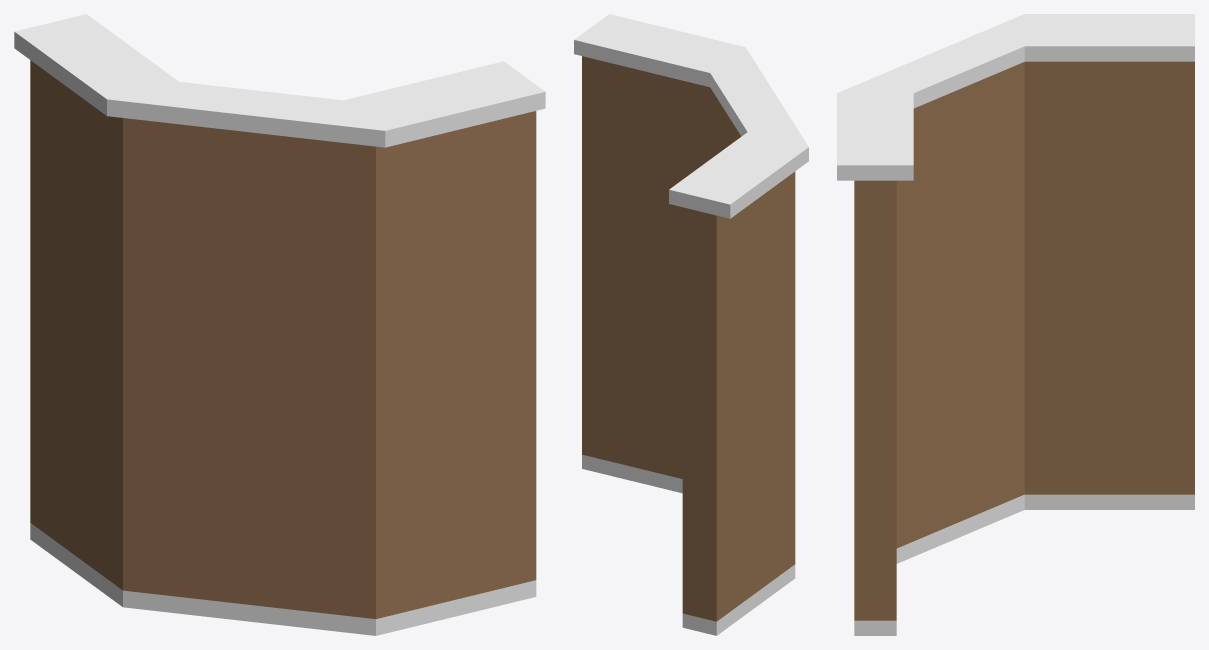
File: SM_200x300_Wall_BevelCorner.fbx
3 renders of one model, left to right at view 1: azimuth 30°, elevation 25°; view 2: azimuth 150°, elevation 25°; view 3: azimuth 270°, elevation 25°, orthographic. The views are drawn at different scales.
Parts seen in each view (by area): view 1: SM_200x300_BasicWall_BevelCorner; view 2: SM_200x300_BasicWall_BevelCorner; view 3: SM_200x300_BasicWall_BevelCorner.
Boxes of the visible parts, x1,y1,x2,y2 form: SM_200x300_BasicWall_BevelCorner: (14,14,545,635); SM_200x300_BasicWall_BevelCorner: (574,14,808,635); SM_200x300_BasicWall_BevelCorner: (837,14,1194,635).
Size of what is drawn, in the model's own units: 210 by 210 by 305.
